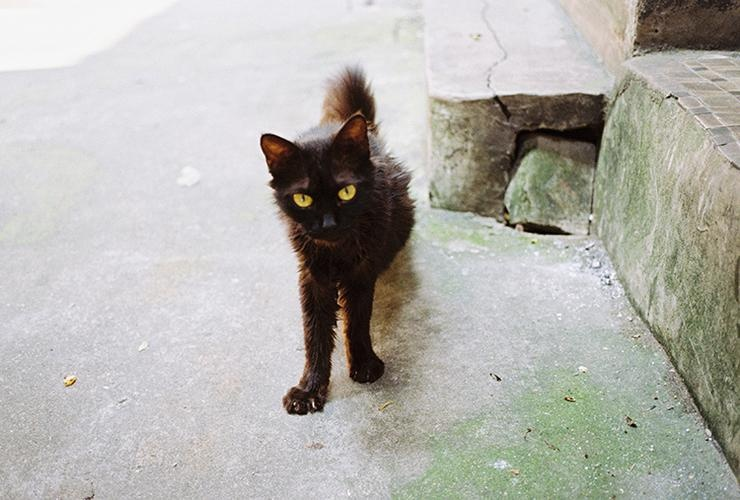cat: (259, 65, 414, 415)
